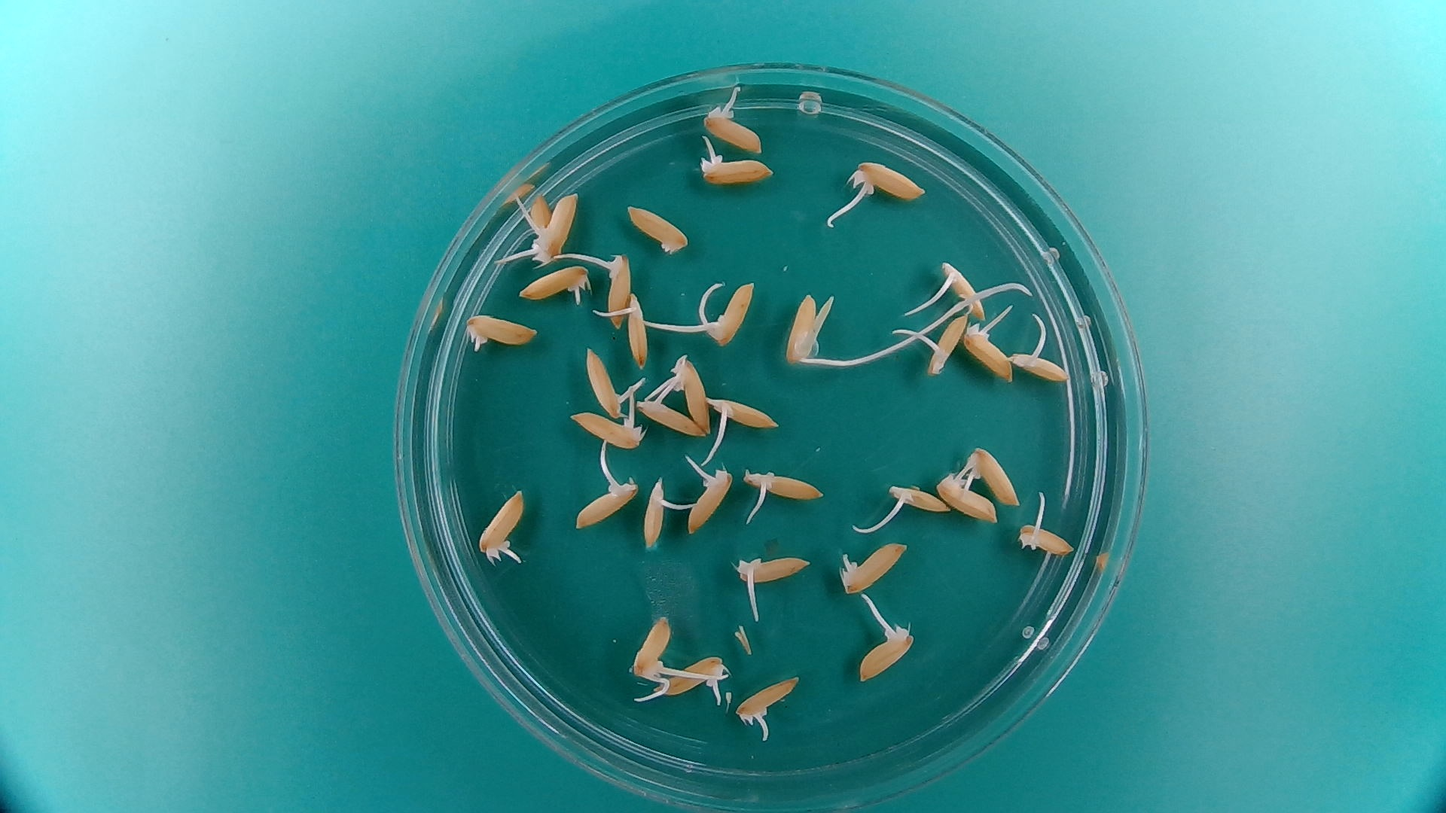no: (624, 201, 692, 257)
yes: (838, 537, 911, 594), (475, 485, 527, 565), (685, 460, 736, 537), (706, 276, 758, 348), (856, 621, 915, 683), (575, 477, 641, 531), (734, 673, 801, 726), (633, 389, 706, 437), (461, 309, 541, 352), (962, 318, 1015, 382), (967, 447, 1023, 507), (670, 353, 712, 432), (514, 262, 591, 305), (654, 653, 725, 699), (700, 106, 768, 154), (850, 160, 928, 201), (582, 346, 627, 417), (920, 312, 970, 375), (939, 474, 1000, 525), (533, 190, 579, 257), (567, 410, 645, 449), (741, 471, 825, 507), (708, 394, 781, 435), (935, 260, 990, 314), (628, 617, 670, 684), (783, 289, 819, 367), (697, 155, 776, 187), (734, 556, 810, 588), (601, 250, 632, 327), (640, 475, 669, 550), (623, 293, 651, 367), (1015, 521, 1072, 557), (1012, 349, 1068, 384), (525, 186, 558, 243), (889, 485, 952, 512)
